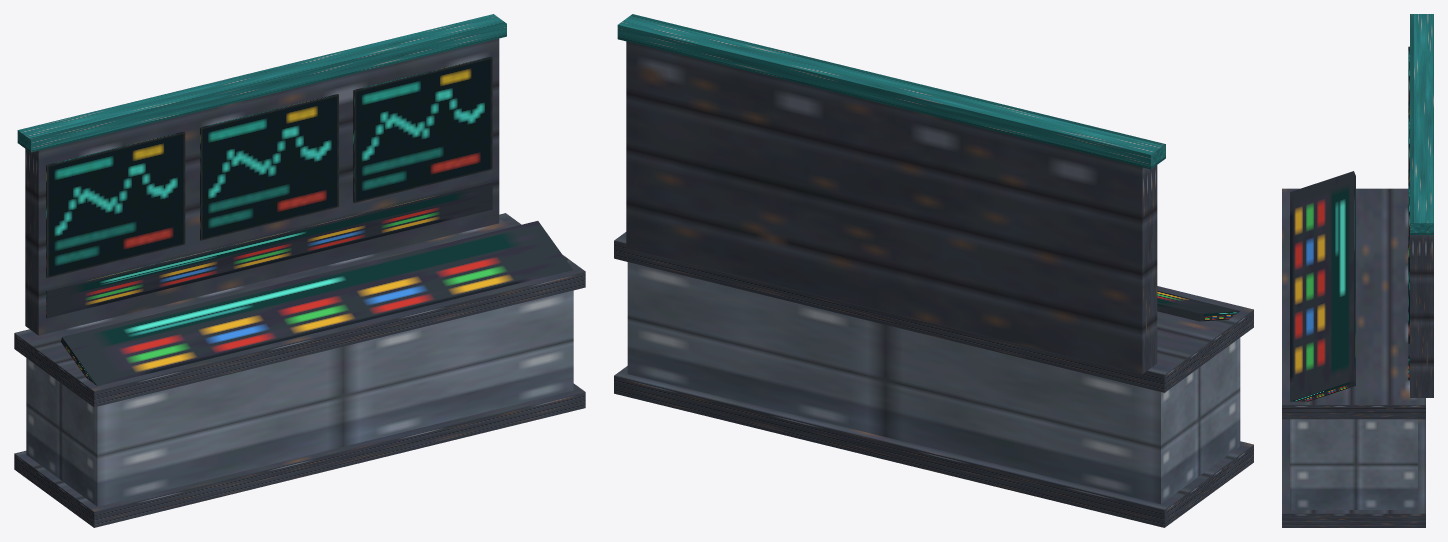
Rendered from control_console_wide.fbx.
3 views of the same model, side by side, from view 1: azimuth 30°, elevation 25°; view 2: azimuth 150°, elevation 25°; view 3: azimuth 270°, elevation 25° (orthographic). The views are drawn at different scales.
Parts seen in each view (by area): view 1: control_console_wide; view 2: control_console_wide; view 3: control_console_wide.
Boxes of the visible parts, x1,y1,x2,y2 form: control_console_wide: [14, 14, 585, 527]; control_console_wide: [614, 14, 1253, 527]; control_console_wide: [1282, 14, 1433, 527].
Size of the model in its own units: 3.2 by 2.08 by 0.95.
1 material, 1 textured.
